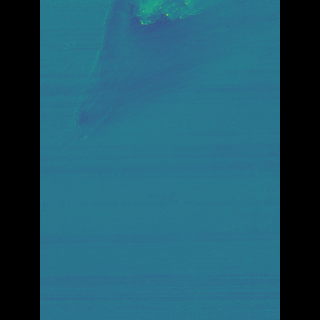Loch: (135, 0, 198, 52)
